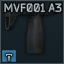MVF001 A3 KeyMod vertical grip Black: (0, 0, 64, 64)
